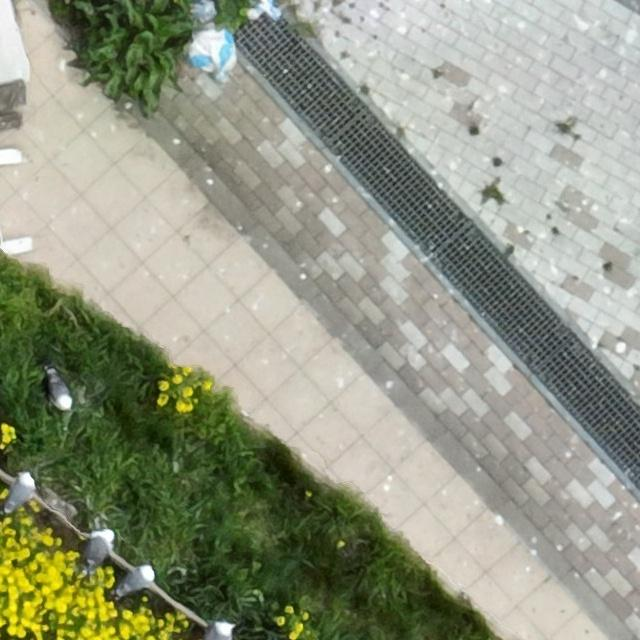umineko: (7, 473, 36, 509), (118, 566, 153, 594), (86, 529, 110, 568), (49, 376, 72, 410), (206, 621, 233, 640)
